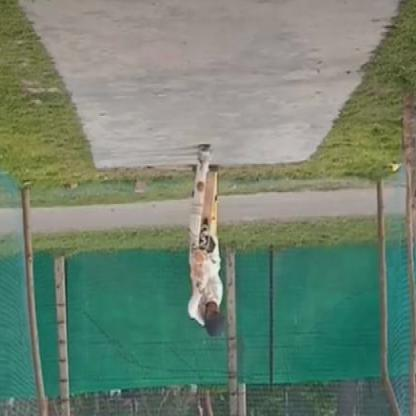ball: (196, 177, 205, 197)
